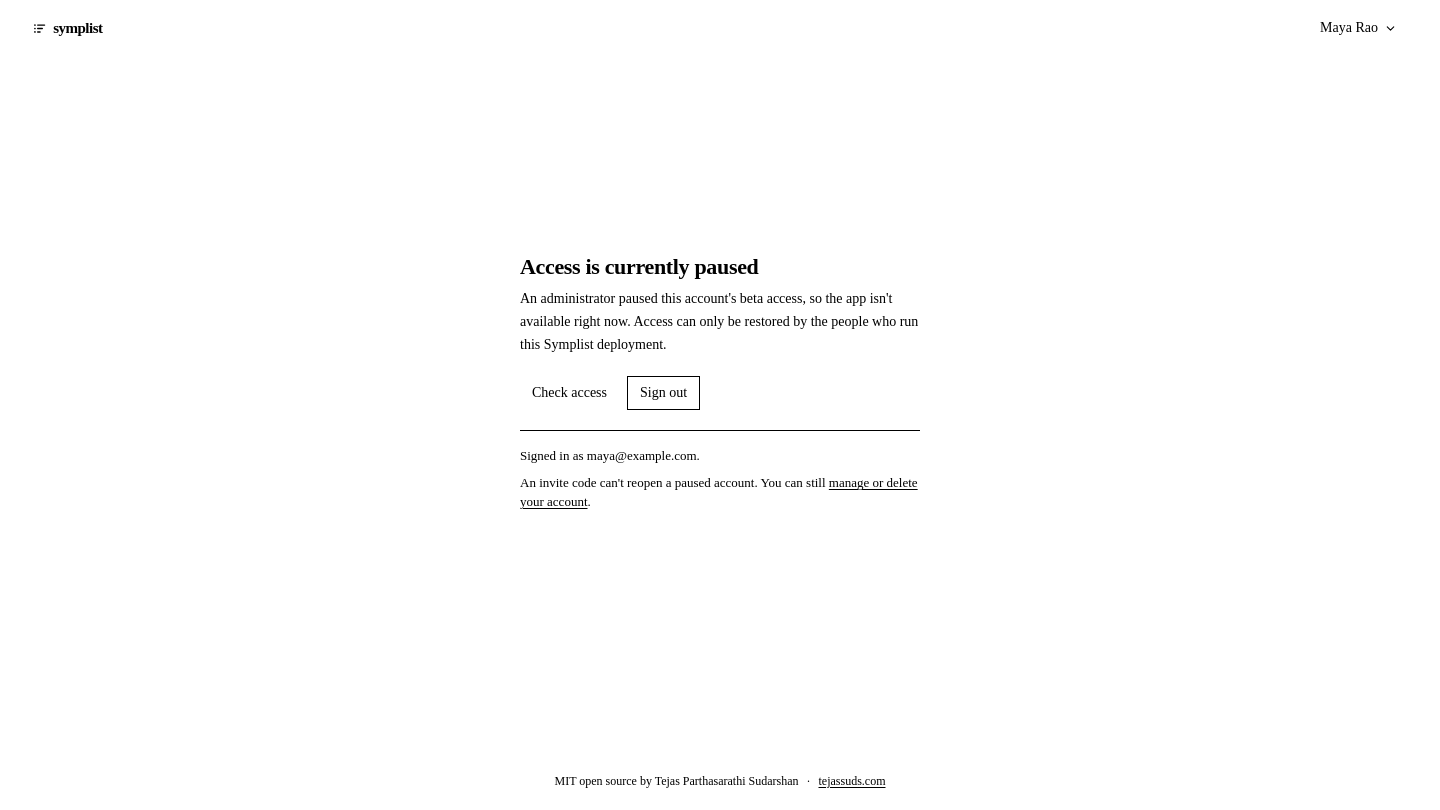
Test: paused access (access_revoked.md) › says when a check found no change
What coordinates should you click on to do the following:
click the button "Check access"
I would click on:
 (570, 393)
Its box is left=520, top=376, right=619, bottom=410.
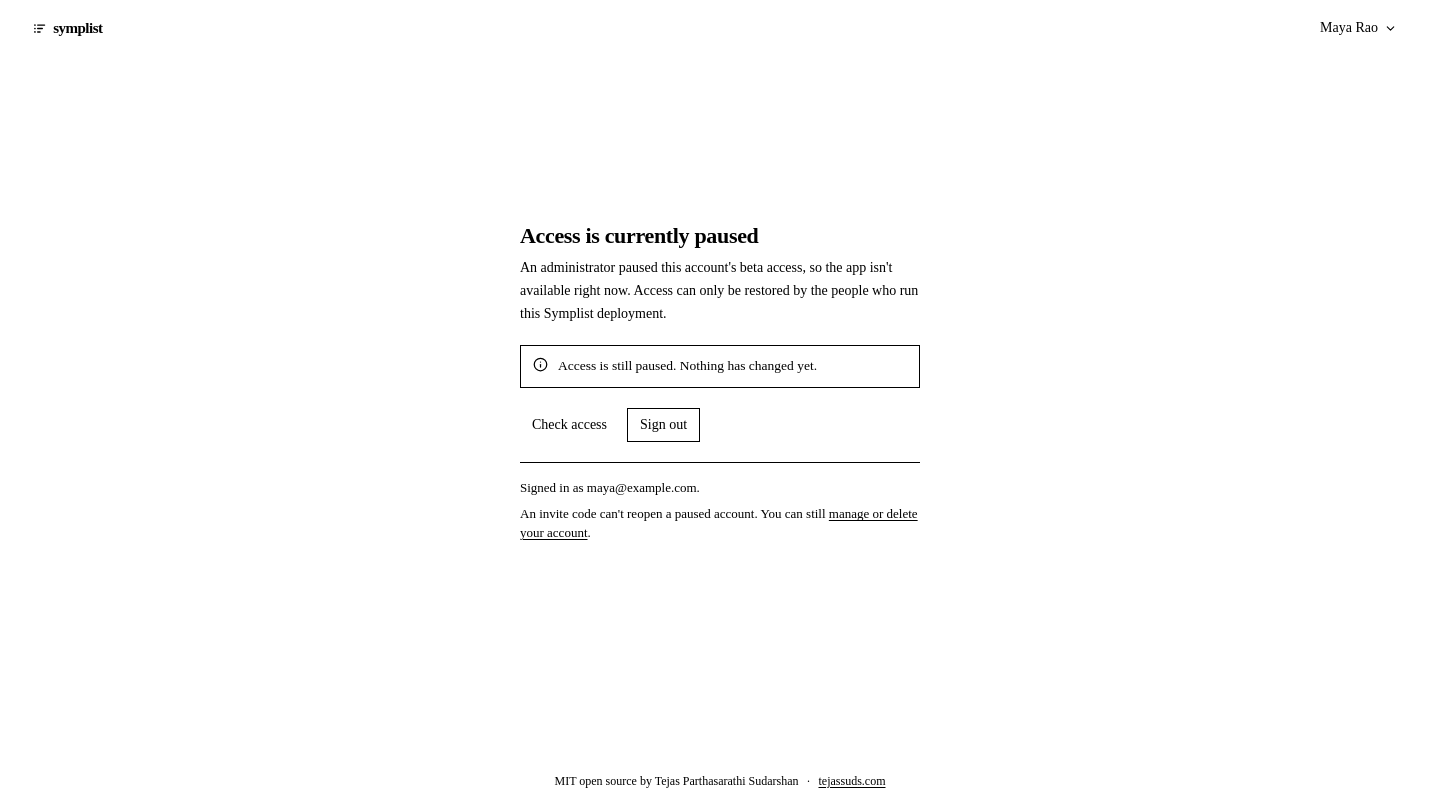
Now the text "Access is still paused. Nothing has changed yet." is shown, box left=558, top=358, right=817, bottom=373
